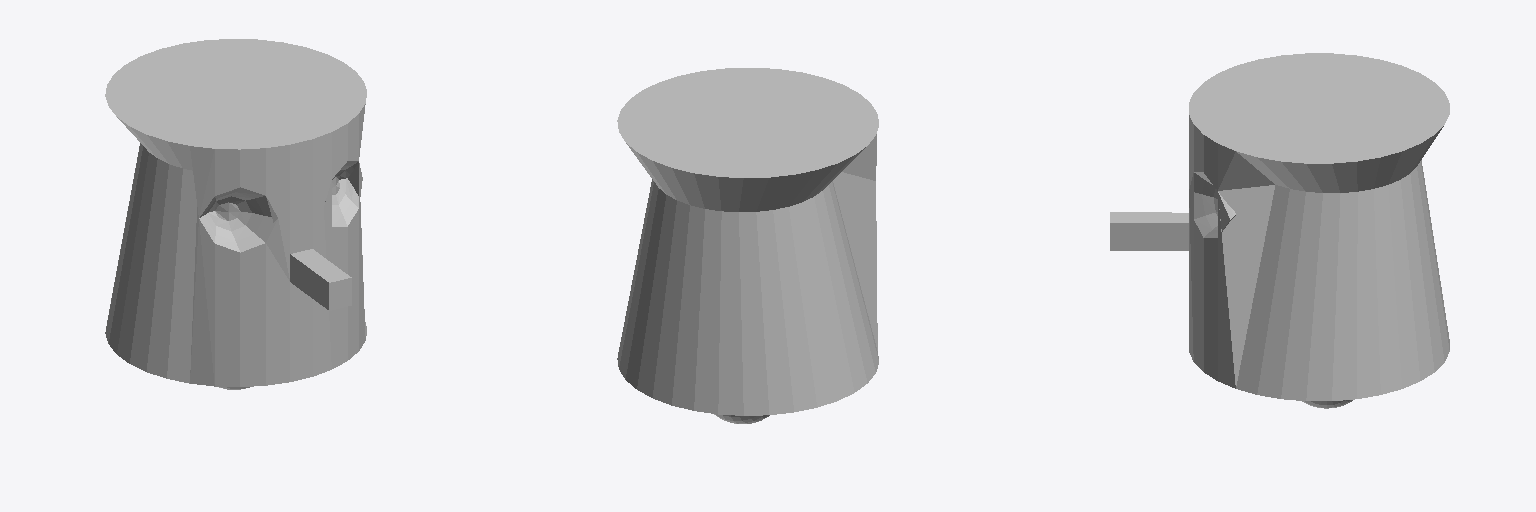
The model's file is head2.obj.
The picture shows the model from 3 angles: view 1: azimuth 30°, elevation 25°; view 2: azimuth 150°, elevation 25°; view 3: azimuth 270°, elevation 25°; orthographic projection.
Parts seen in each view (by area): view 1: Cylinder.001_Cylinder.003; view 2: Cylinder.001_Cylinder.003; view 3: Cylinder.001_Cylinder.003.
Boxes of the visible parts, x1=… form: Cylinder.001_Cylinder.003: x1=105, y1=39, x2=366, y2=386; Cylinder.001_Cylinder.003: x1=617, y1=68, x2=878, y2=415; Cylinder.001_Cylinder.003: x1=1110, y1=53, x2=1449, y2=400.
Bounding box in the file's own units: 0.5073 × 0.6323 × 0.66.